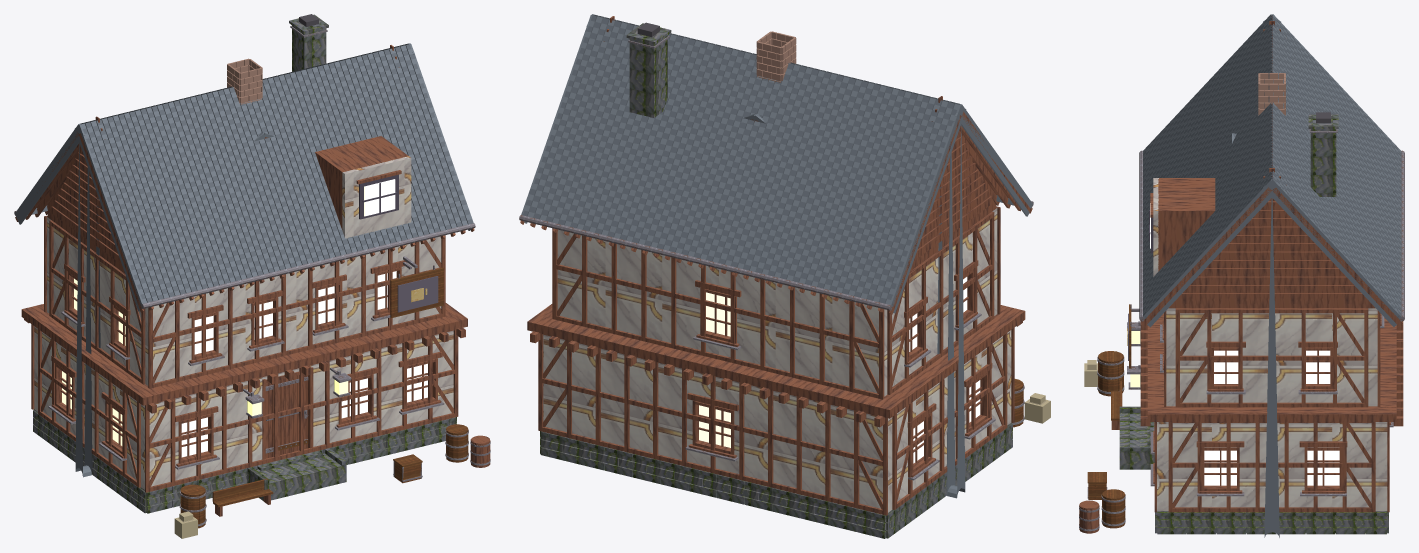
Rendered from vardshus.glb.
3 renders of one model, left to right at view 1: azimuth 30°, elevation 25°; view 2: azimuth 150°, elevation 25°; view 3: azimuth 270°, elevation 25°, orthographic. The views are drawn at different scales.
Parts seen in each view (by area): view 1: vardshus_mörkt_virke, vardshus_takpanna_ljus, vardshus_takpanna_mörk, vardshus_puts, vardshus_fot_sten, vardshus_järn, vardshus_fönster, vardshus_ljust_virke, vardshus_sten, vardshus_tegel, vardshus_mur, vardshus_skyltfält (+1 smaller); view 2: vardshus_mörkt_virke, vardshus_takpanna_ljus, vardshus_puts, vardshus_takpanna_mörk, vardshus_fot_sten, vardshus_järn, vardshus_mur, vardshus_fönster, vardshus_tegel, vardshus_halm; view 3: vardshus_mörkt_virke, vardshus_takpanna_ljus, vardshus_puts, vardshus_takpanna_mörk, vardshus_fot_sten, vardshus_järn, vardshus_fönster, vardshus_ljust_virke, vardshus_sten, vardshus_mur, vardshus_tegel.
Boxes of the visible parts, bbox=[...] form: vardshus_mörkt_virke: bbox=[15, 45, 490, 516]; vardshus_takpanna_ljus: bbox=[15, 43, 473, 477]; vardshus_takpanna_mörk: bbox=[18, 43, 473, 472]; vardshus_puts: bbox=[34, 156, 453, 489]; vardshus_fot_sten: bbox=[33, 409, 456, 513]; vardshus_järn: bbox=[14, 26, 490, 526]; vardshus_fönster: bbox=[62, 179, 427, 457]; vardshus_ljust_virke: bbox=[180, 267, 468, 528]; vardshus_sten: bbox=[247, 14, 346, 500]; vardshus_tegel: bbox=[227, 58, 262, 104]; vardshus_mur: bbox=[292, 25, 326, 71]; vardshus_skyltfält: bbox=[397, 276, 438, 312]; vardshus_mörkt_virke: bbox=[520, 16, 1032, 515]; vardshus_takpanna_ljus: bbox=[521, 14, 1032, 498]; vardshus_puts: bbox=[543, 208, 1011, 512]; vardshus_takpanna_mörk: bbox=[521, 14, 1030, 495]; vardshus_fot_sten: bbox=[540, 422, 1012, 538]; vardshus_järn: bbox=[519, 36, 1033, 480]; vardshus_mur: bbox=[629, 35, 667, 117]; vardshus_fönster: bbox=[699, 277, 980, 463]; vardshus_tegel: bbox=[756, 31, 796, 82]; vardshus_halm: bbox=[1024, 393, 1050, 423]; vardshus_mörkt_virke: bbox=[1079, 16, 1403, 533]; vardshus_takpanna_ljus: bbox=[1143, 14, 1401, 537]; vardshus_puts: bbox=[1153, 178, 1387, 511]; vardshus_takpanna_mörk: bbox=[1143, 17, 1401, 398]; vardshus_fot_sten: bbox=[1155, 512, 1388, 534]; vardshus_järn: bbox=[1079, 129, 1404, 531]; vardshus_fönster: bbox=[1150, 203, 1339, 485]; vardshus_ljust_virke: bbox=[1087, 304, 1131, 528]; vardshus_sten: bbox=[1119, 114, 1338, 469]; vardshus_mur: bbox=[1310, 129, 1336, 196]; vardshus_tegel: bbox=[1258, 73, 1285, 115].
Bounding box in the file's own units: 14.5 × 15.7 × 12.03.
Materials: 17 (7 with a texture image).
